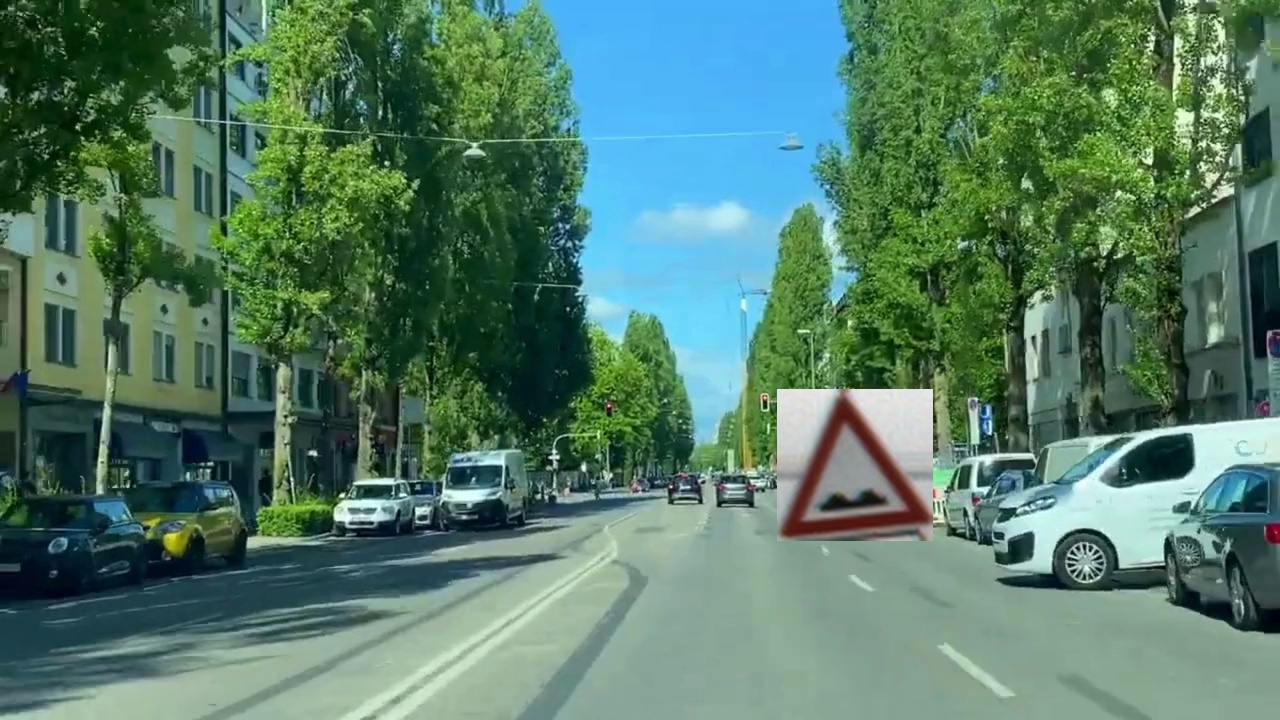Bumpy road: (777, 389, 933, 541)
